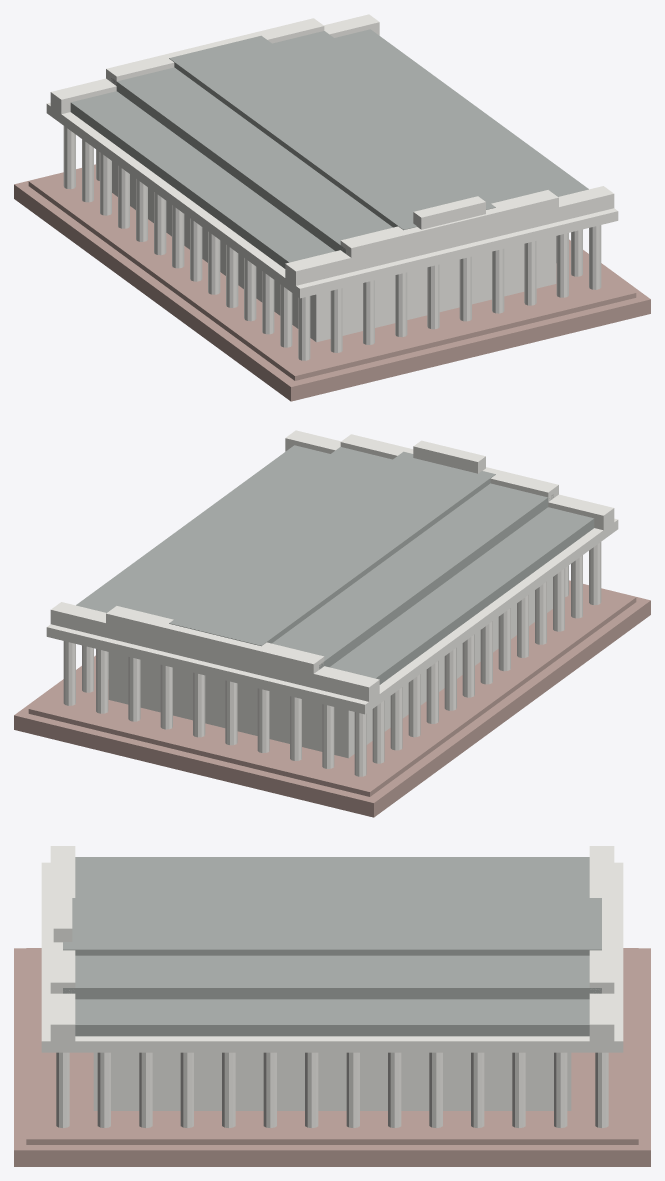
Rendered from stock_exchange.glb.
3 views of the same model, one above another, from view 1: azimuth 30°, elevation 25°; view 2: azimuth 150°, elevation 25°; view 3: azimuth 270°, elevation 25° (orthographic). The views are drawn at different scales.
Parts seen in each view (by area): view 1: Gable_Roof_Tier2, Gable_Roof_Ridge, Gable_Roof_Tier1, Stylobate_Upper, Stylobate_Plinth, Cella_Walls, Entablature, Pediment_Front_Base, Pediment_Front_Peak, Pediment_Back_Peak, Pediment_Back_Base, Neptune_Sculpture_Group (+23 smaller); view 2: Gable_Roof_Tier2, Gable_Roof_Ridge, Gable_Roof_Tier1, Stylobate_Upper, Stylobate_Plinth, Cella_Walls, Entablature, Pediment_Back_Base, Pediment_Back_Peak, Pediment_Front_Peak, Pediment_Front_Base, Neptune_Sculpture_Group (+23 smaller); view 3: Gable_Roof_Tier2, Gable_Roof_Ridge, Stylobate_Upper, Gable_Roof_Tier1, Cella_Walls, Stylobate_Plinth, Entablature, Pediment_Back_Peak, Pediment_Front_Peak, Pediment_Back_Base, Pediment_Front_Base, Col_Back_9 (+14 smaller).
Part boxes in pixels (x1=…): Gable_Roof_Tier2: x1=111, y1=31, x2=542, y2=253; Gable_Roof_Ridge: x1=169, y1=35, x2=495, y2=230; Gable_Roof_Tier1: x1=70, y1=29, x2=588, y2=268; Stylobate_Upper: x1=28, y1=165, x2=636, y2=380; Stylobate_Plinth: x1=14, y1=164, x2=650, y2=401; Cella_Walls: x1=112, y1=161, x2=556, y2=342; Entablature: x1=46, y1=102, x2=618, y2=298; Pediment_Front_Base: x1=285, y1=186, x2=614, y2=285; Pediment_Front_Peak: x1=340, y1=190, x2=558, y2=257; Pediment_Back_Peak: x1=106, y1=18, x2=324, y2=85; Pediment_Back_Base: x1=50, y1=14, x2=379, y2=114; Neptune_Sculpture_Group: x1=413, y1=196, x2=485, y2=229; Gable_Roof_Tier2: x1=122, y1=447, x2=553, y2=669; Gable_Roof_Ridge: x1=169, y1=451, x2=495, y2=646; Gable_Roof_Tier1: x1=76, y1=445, x2=594, y2=684; Stylobate_Upper: x1=28, y1=581, x2=636, y2=796; Stylobate_Plinth: x1=14, y1=580, x2=650, y2=817; Cella_Walls: x1=108, y1=577, x2=552, y2=758; Entablature: x1=46, y1=518, x2=618, y2=714; Pediment_Back_Base: x1=50, y1=602, x2=379, y2=701; Pediment_Back_Peak: x1=106, y1=606, x2=324, y2=673; Pediment_Front_Peak: x1=340, y1=434, x2=558, y2=501; Pediment_Front_Base: x1=285, y1=430, x2=614, y2=530; Neptune_Sculpture_Group: x1=413, y1=440, x2=485, y2=473; Gable_Roof_Tier2: x1=63, y1=871, x2=601, y2=999; Gable_Roof_Ridge: x1=63, y1=898, x2=601, y2=955; Stylobate_Upper: x1=26, y1=948, x2=638, y2=1144; Gable_Roof_Tier1: x1=75, y1=857, x2=589, y2=1036; Cella_Walls: x1=93, y1=1052, x2=571, y2=1110; Stylobate_Plinth: x1=14, y1=948, x2=650, y2=1166; Entablature: x1=41, y1=862, x2=623, y2=1052; Pediment_Back_Peak: x1=589, y1=866, x2=614, y2=993; Pediment_Front_Peak: x1=50, y1=866, x2=75, y2=993; Pediment_Back_Base: x1=589, y1=846, x2=614, y2=1041; Pediment_Front_Base: x1=50, y1=846, x2=75, y2=1041; Col_Back_9: x1=595, y1=1052, x2=608, y2=1127.
Bounding box in the file's own units: 78 × 28 × 104.
